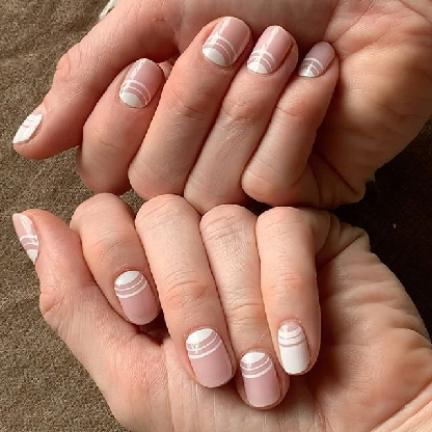Nail: (186, 328, 232, 387), (202, 17, 251, 67), (114, 271, 159, 325), (240, 350, 279, 408), (119, 58, 164, 108), (247, 25, 292, 74), (278, 321, 310, 374), (298, 41, 335, 78), (13, 213, 39, 263), (13, 106, 43, 144)
